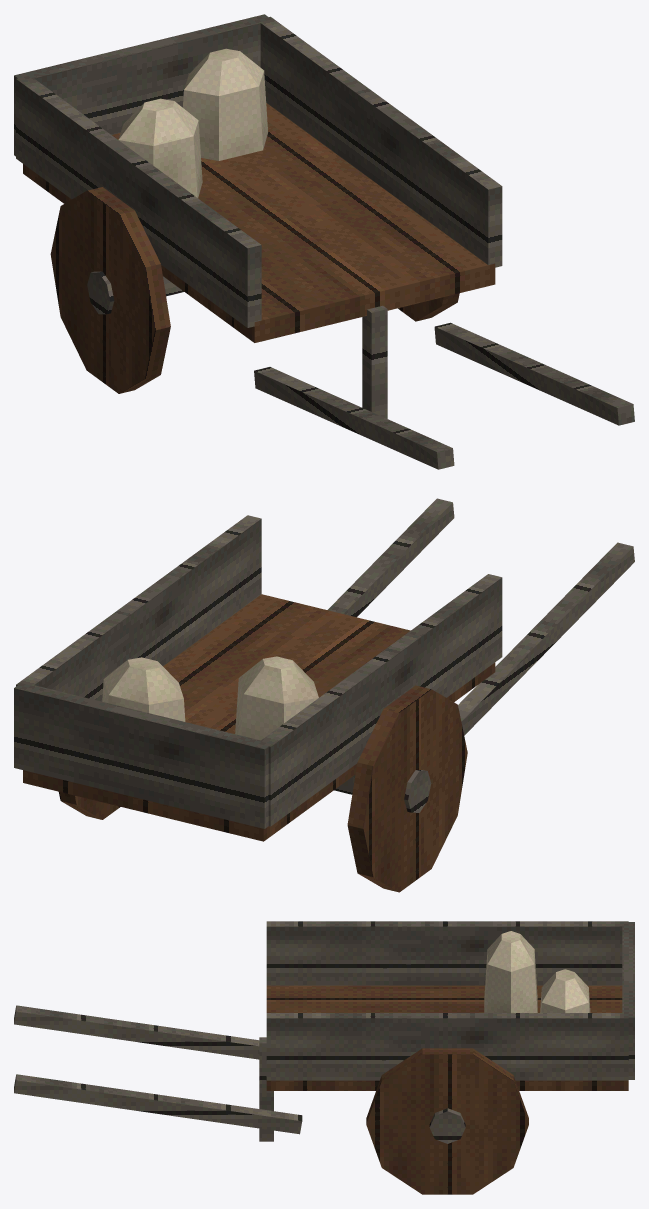
Rendered from carreta.obj.
3 views of the same model, one above another, from view 1: azimuth 30°, elevation 25°; view 2: azimuth 150°, elevation 25°; view 3: azimuth 270°, elevation 25° (orthographic). The views are drawn at different scales.
Parts seen in each view (by area): view 1: carreta; view 2: carreta; view 3: carreta.
Part boxes in pixels (left/top/right/bottom): carreta: left=14, top=14, right=634, bottom=469; carreta: left=14, top=498, right=634, bottom=892; carreta: left=14, top=921, right=634, bottom=1194.
Size of the model in its own units: 1.62 by 1.09 by 3.43.
Materials: 3 (3 with a texture image).
